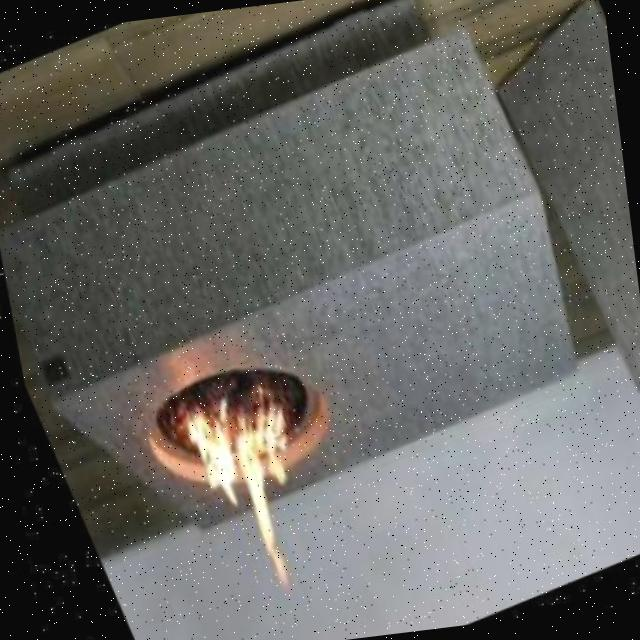fire: (162, 369, 350, 626)
